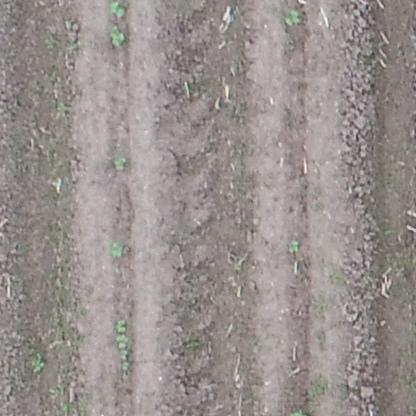vc: (114, 334, 133, 373), (106, 24, 127, 48), (283, 7, 304, 30), (111, 152, 129, 172), (109, 239, 126, 258), (108, 2, 128, 18), (285, 237, 302, 255), (115, 317, 127, 332)
